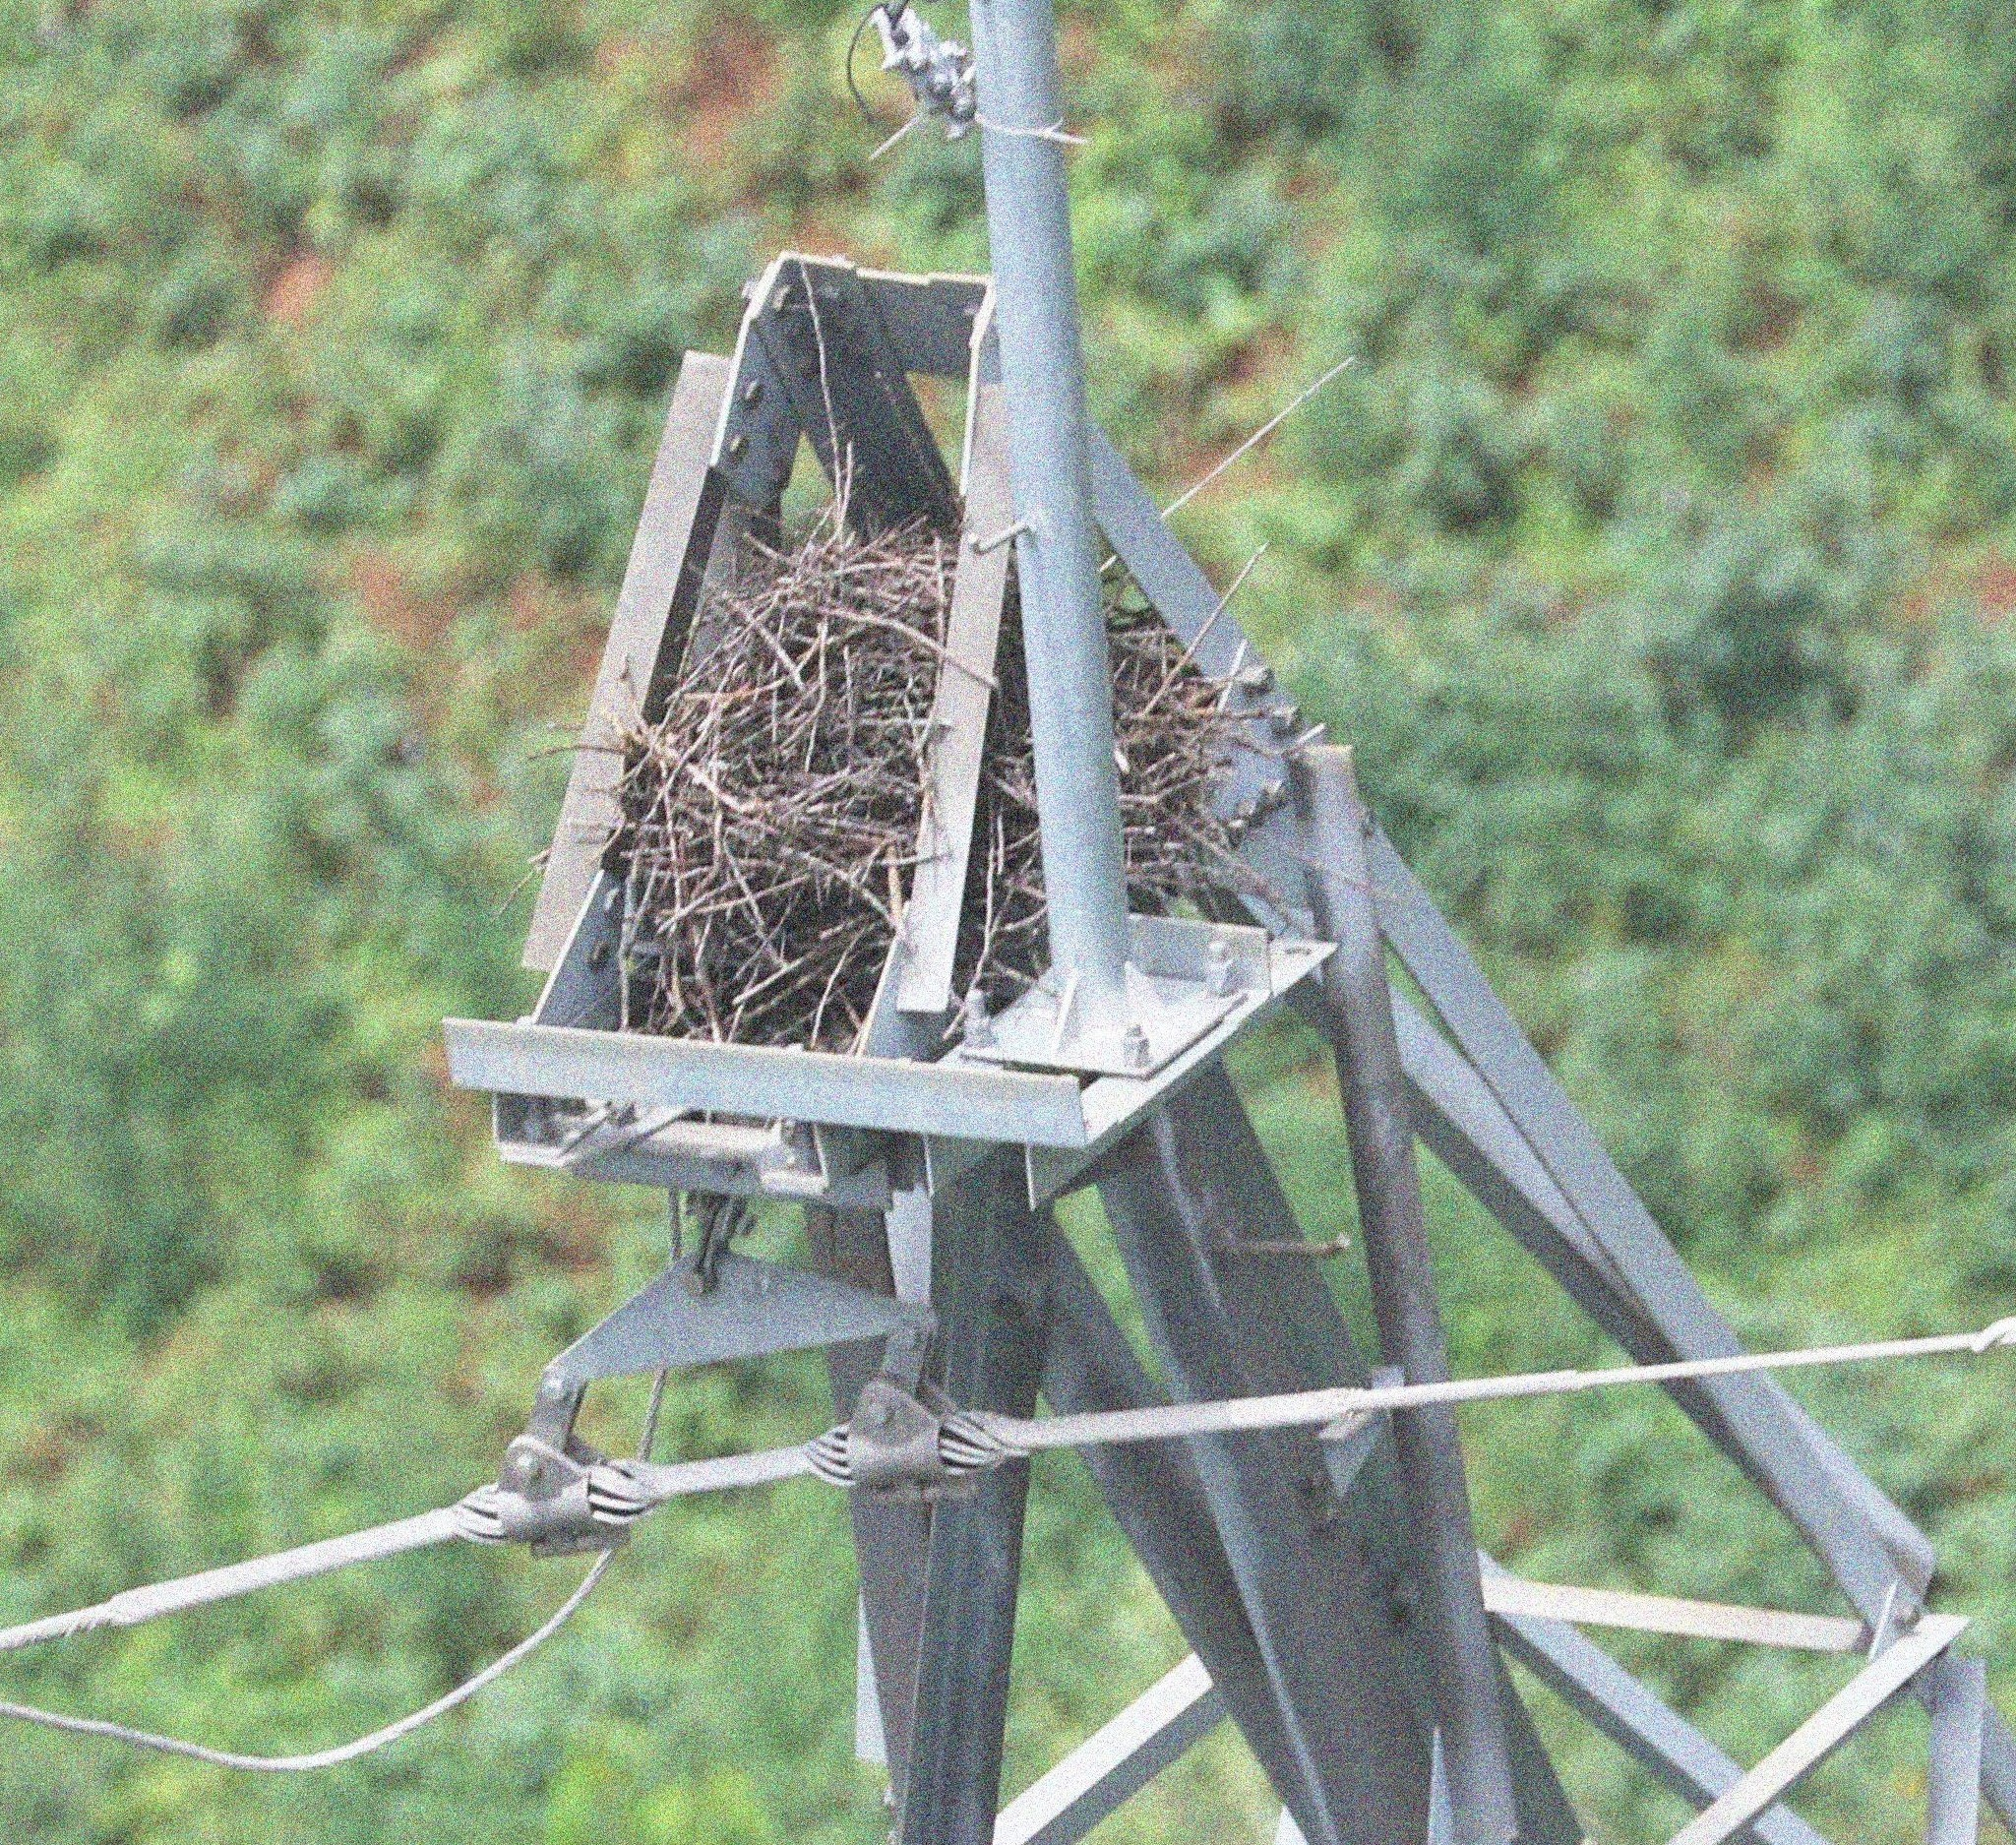niaowo: (525, 495, 1301, 1104)
